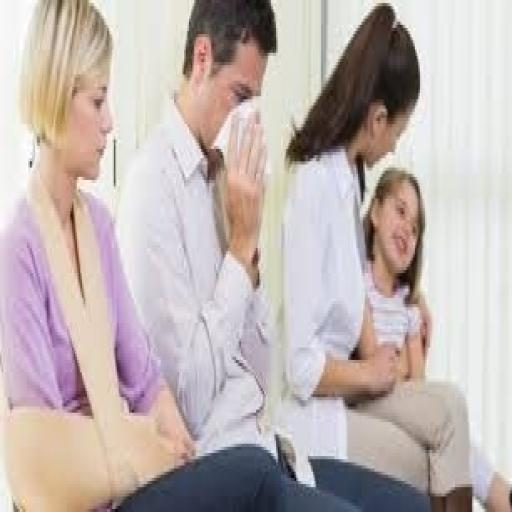sitting: (114, 0, 430, 509), (0, 0, 286, 509), (280, 3, 510, 509)
